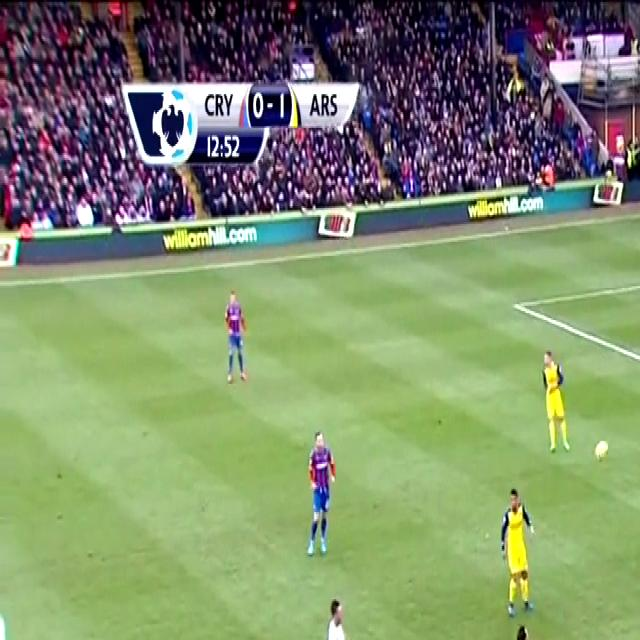ball: (588, 435, 612, 467)
referee: (314, 601, 374, 640)
soccer-player: (294, 420, 348, 561), (496, 484, 548, 622), (534, 345, 578, 463), (214, 286, 256, 390), (502, 620, 558, 640)
